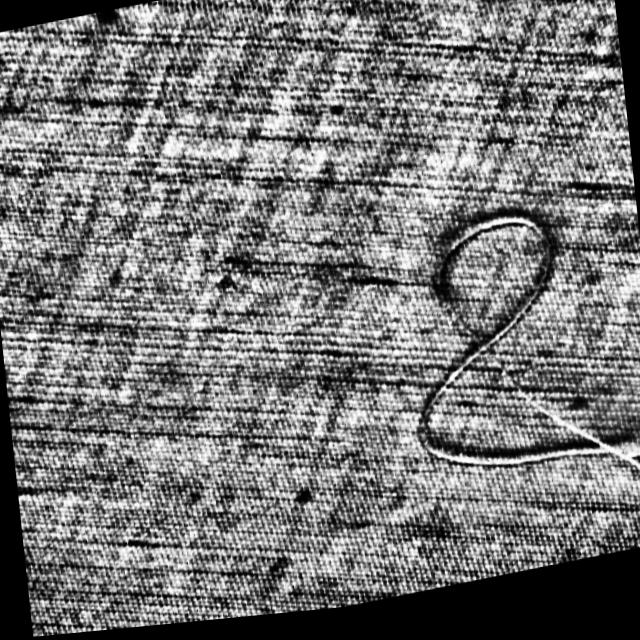Stitch: (387, 196, 640, 551)
